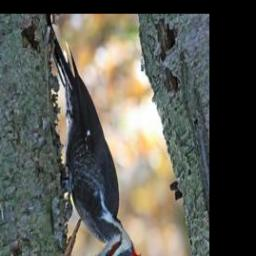Woodpecker: (49, 17, 143, 256)
